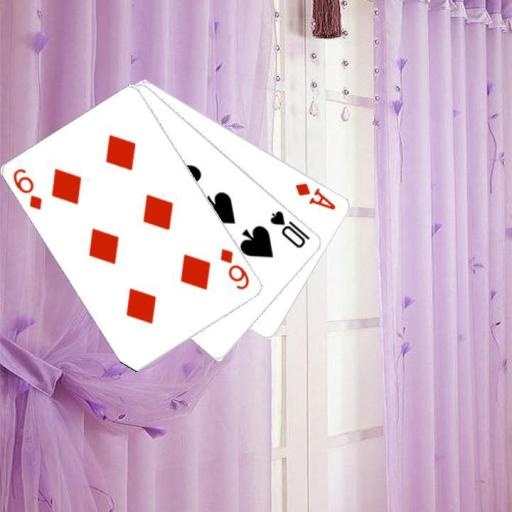10S: (267, 207, 312, 250)
6D: (217, 246, 252, 292), (10, 165, 44, 212)
AD: (292, 179, 338, 212)
